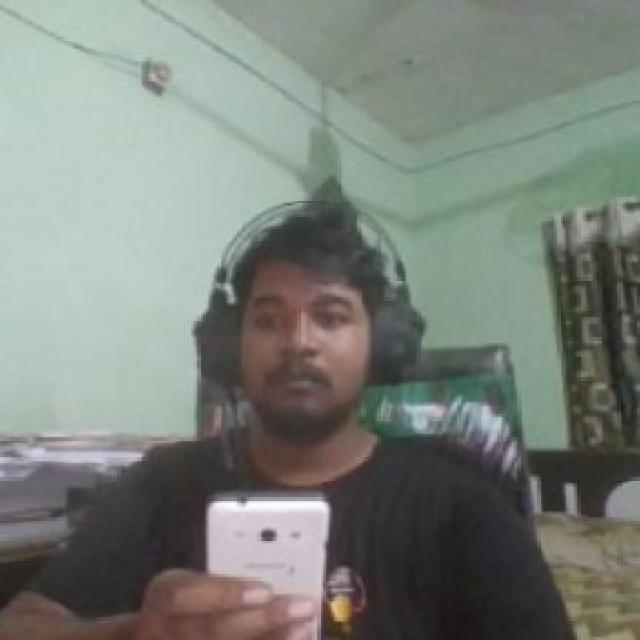Phone: (203, 495, 331, 640)
